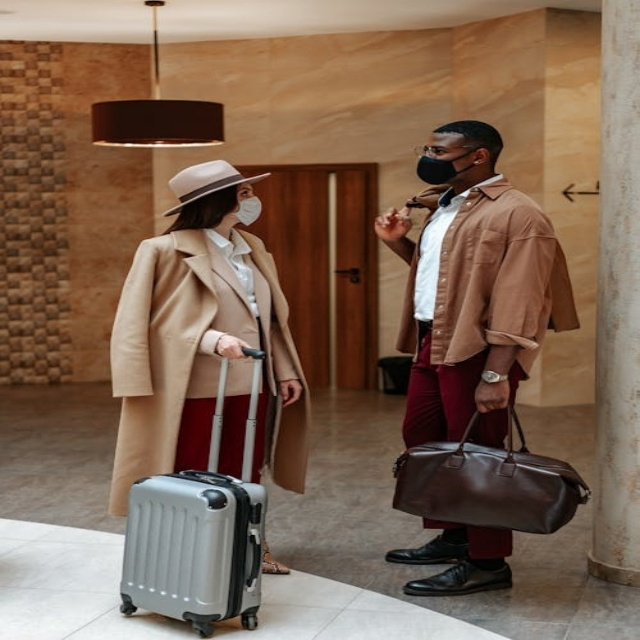Gafas: (415, 144, 481, 157)
Mascara: (416, 151, 477, 184), (232, 195, 263, 227)
Sin_guantes: (366, 197, 426, 248), (468, 374, 509, 416), (211, 332, 257, 364), (273, 376, 310, 409)
